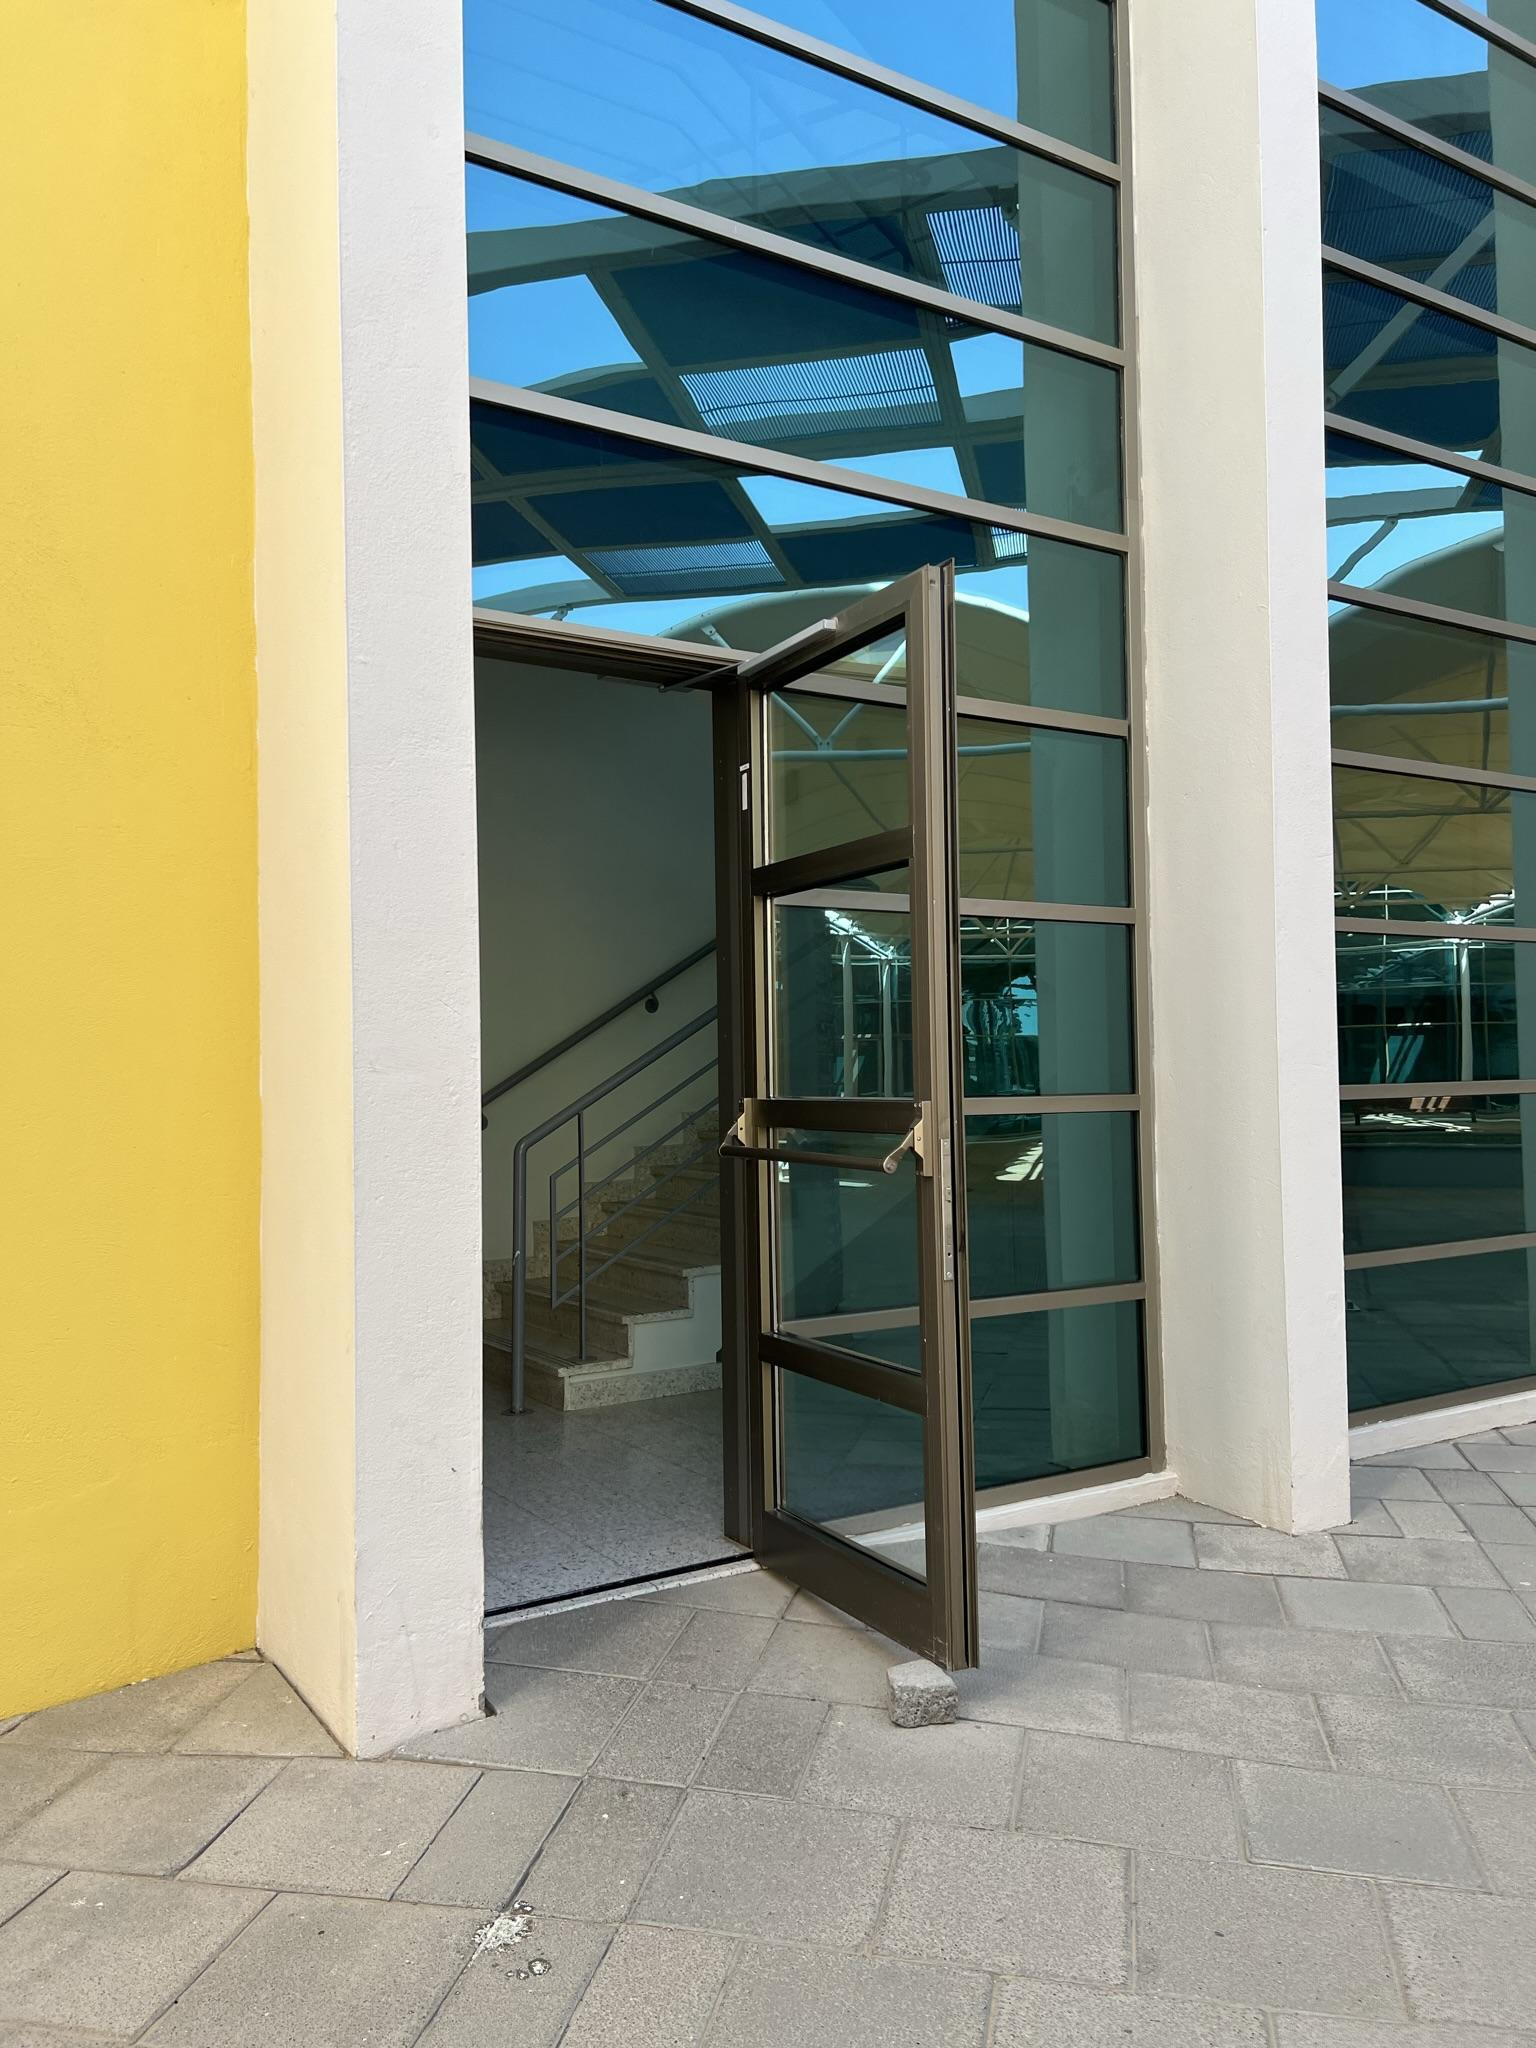door: (733, 606, 981, 1674)
